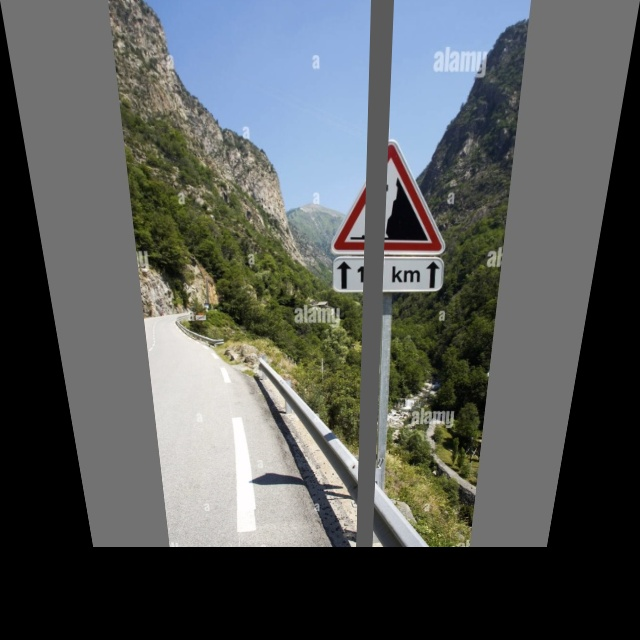Falling_Rocks: (333, 141, 449, 253)
